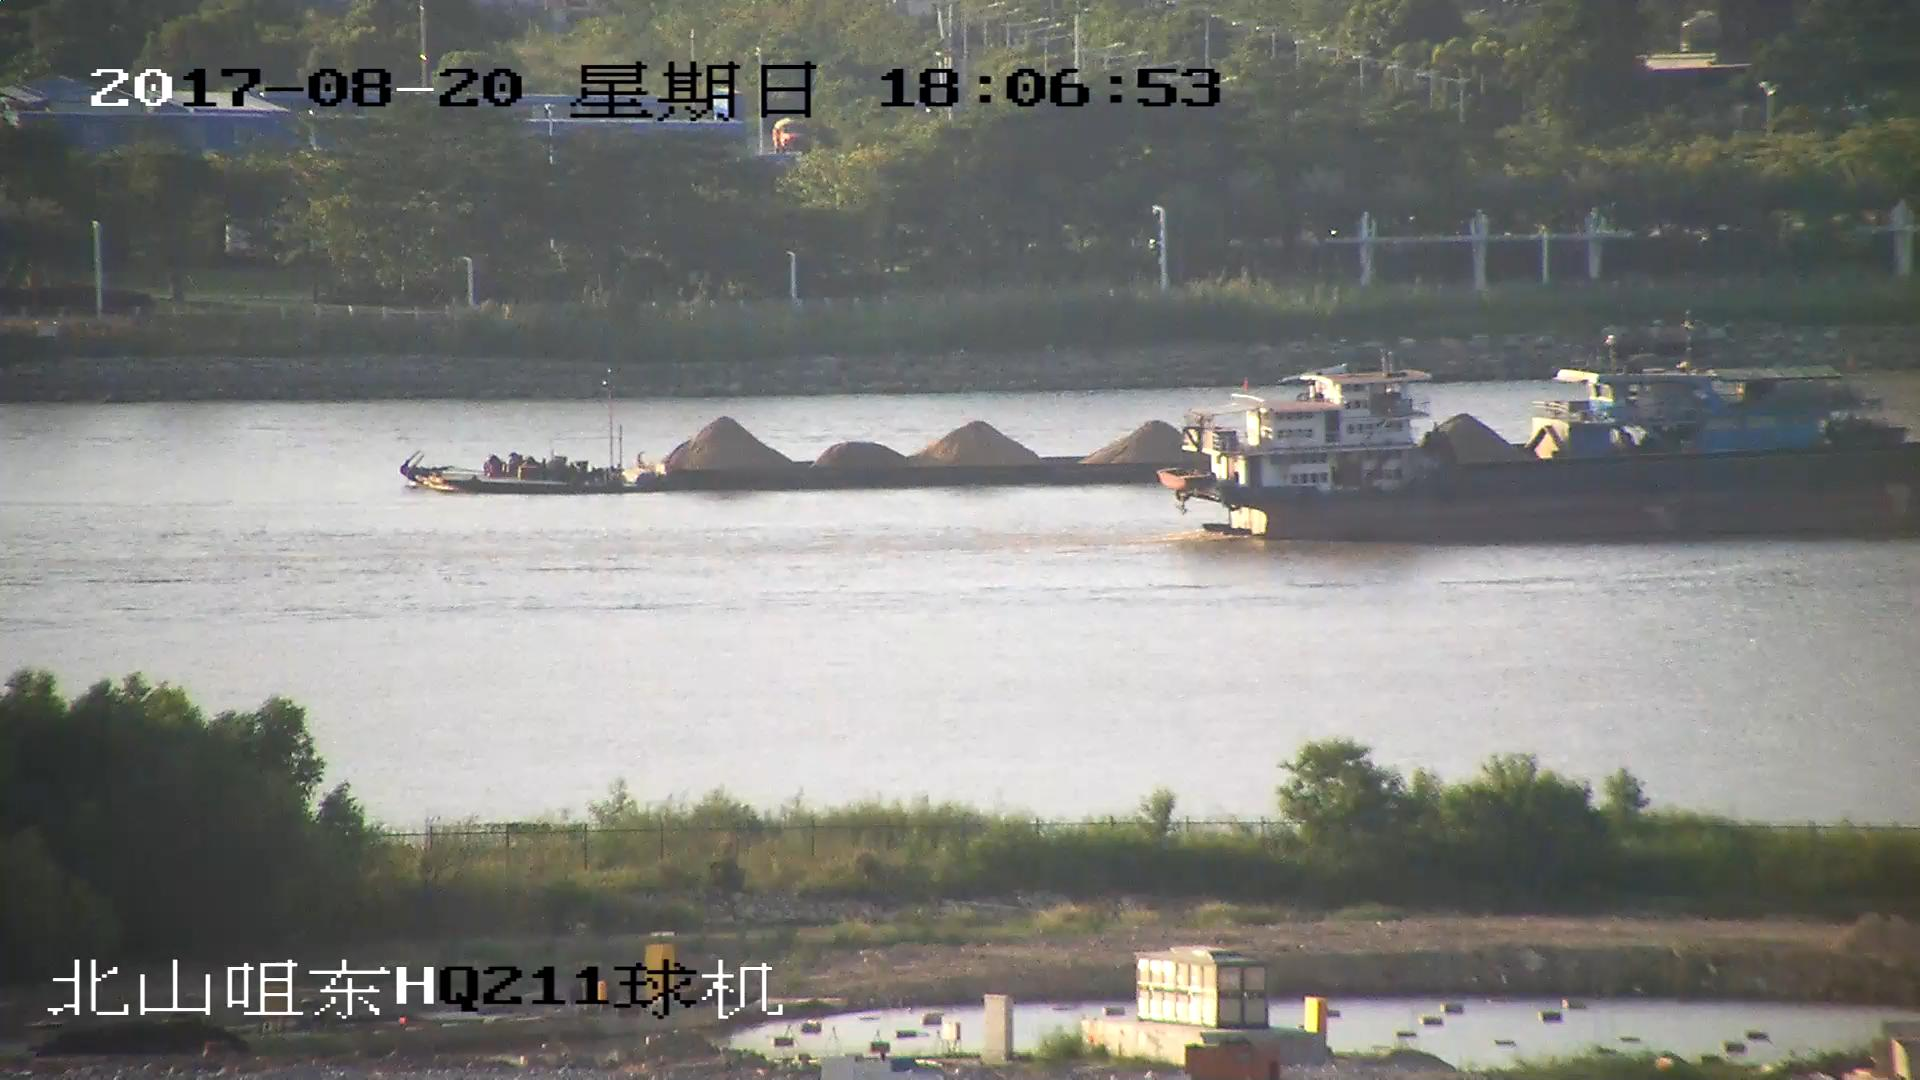bulk cargo carrier: (1165, 371, 1920, 548)
ore carrier: (395, 346, 1882, 499)
